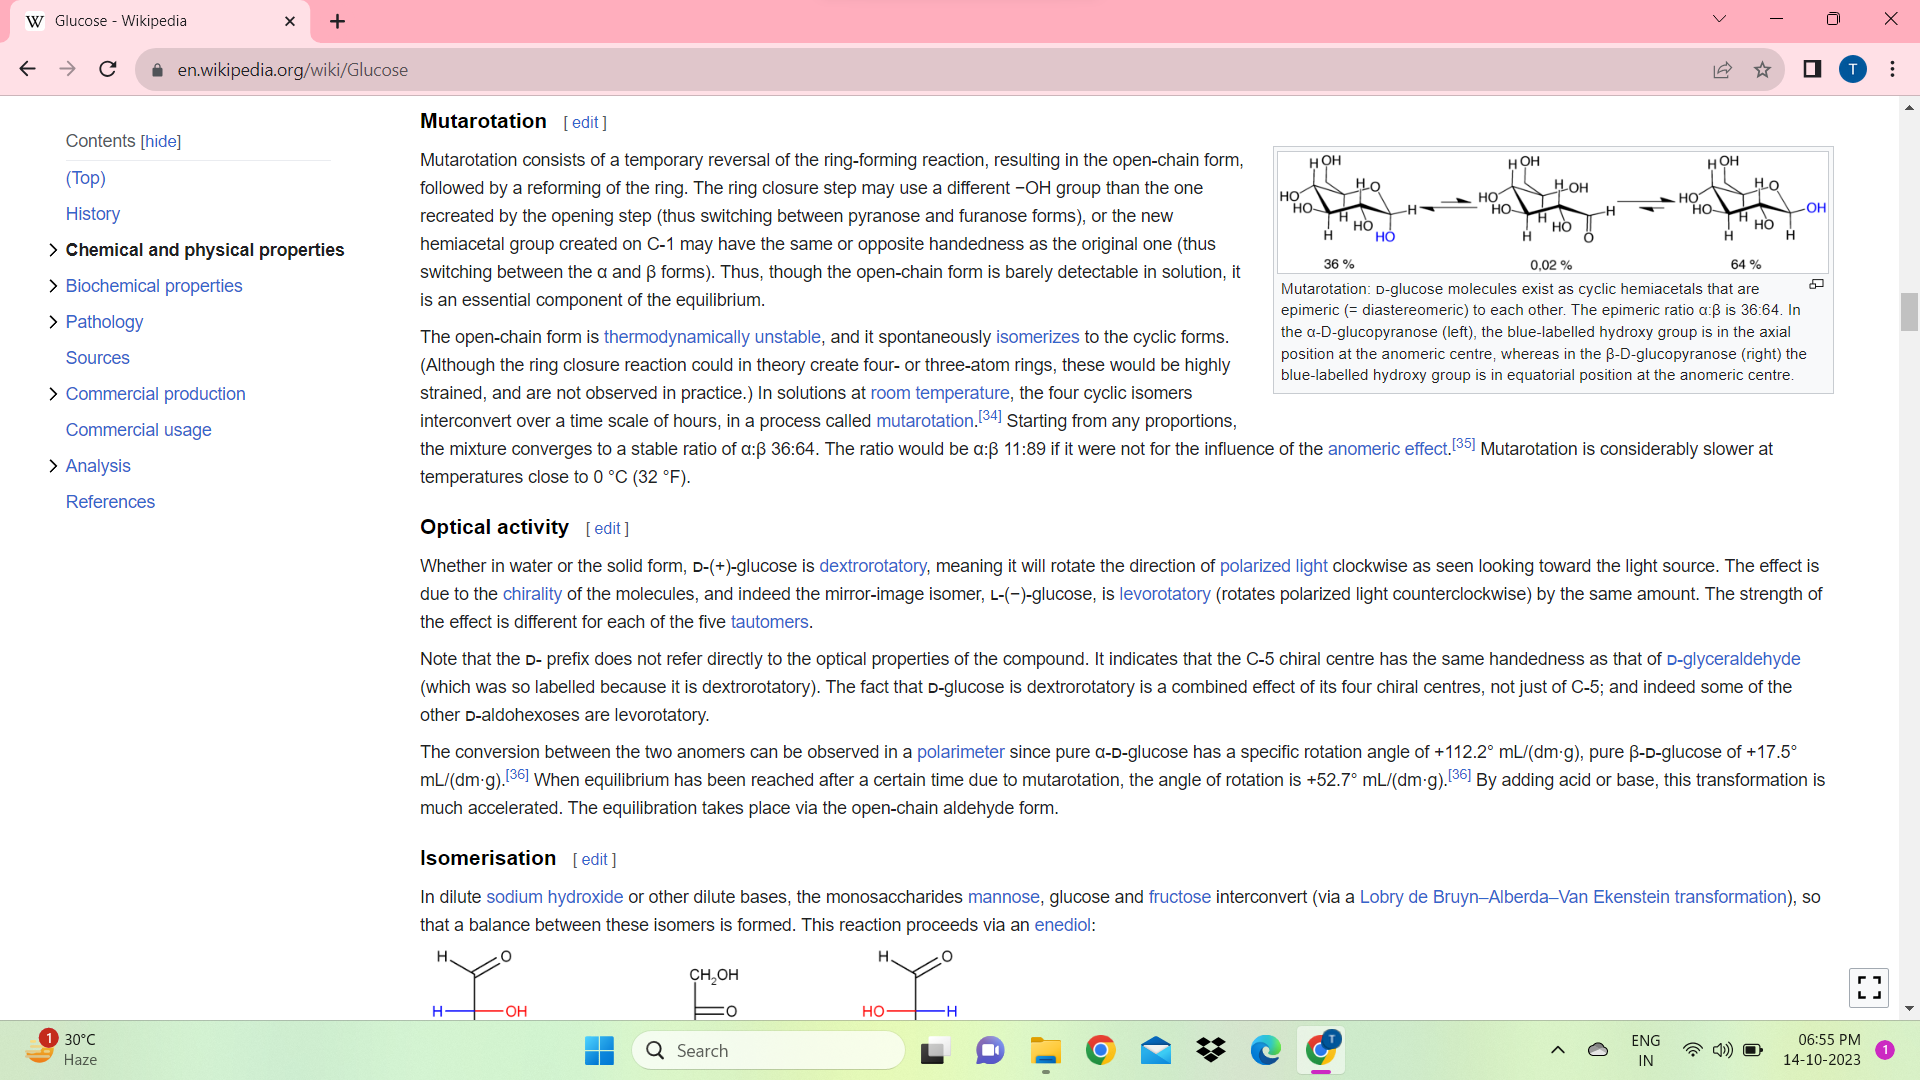Image: (1273, 145, 1836, 269)
Paragraph: (407, 316, 1801, 488), (394, 638, 1840, 732), (410, 149, 1265, 306), (394, 736, 1869, 824), (407, 556, 1858, 634), (393, 880, 1853, 943), (1273, 272, 1836, 400), (404, 102, 632, 145), (61, 228, 360, 261), (404, 828, 566, 876), (404, 512, 583, 549), (65, 377, 261, 406), (58, 472, 170, 518), (57, 133, 204, 156)
